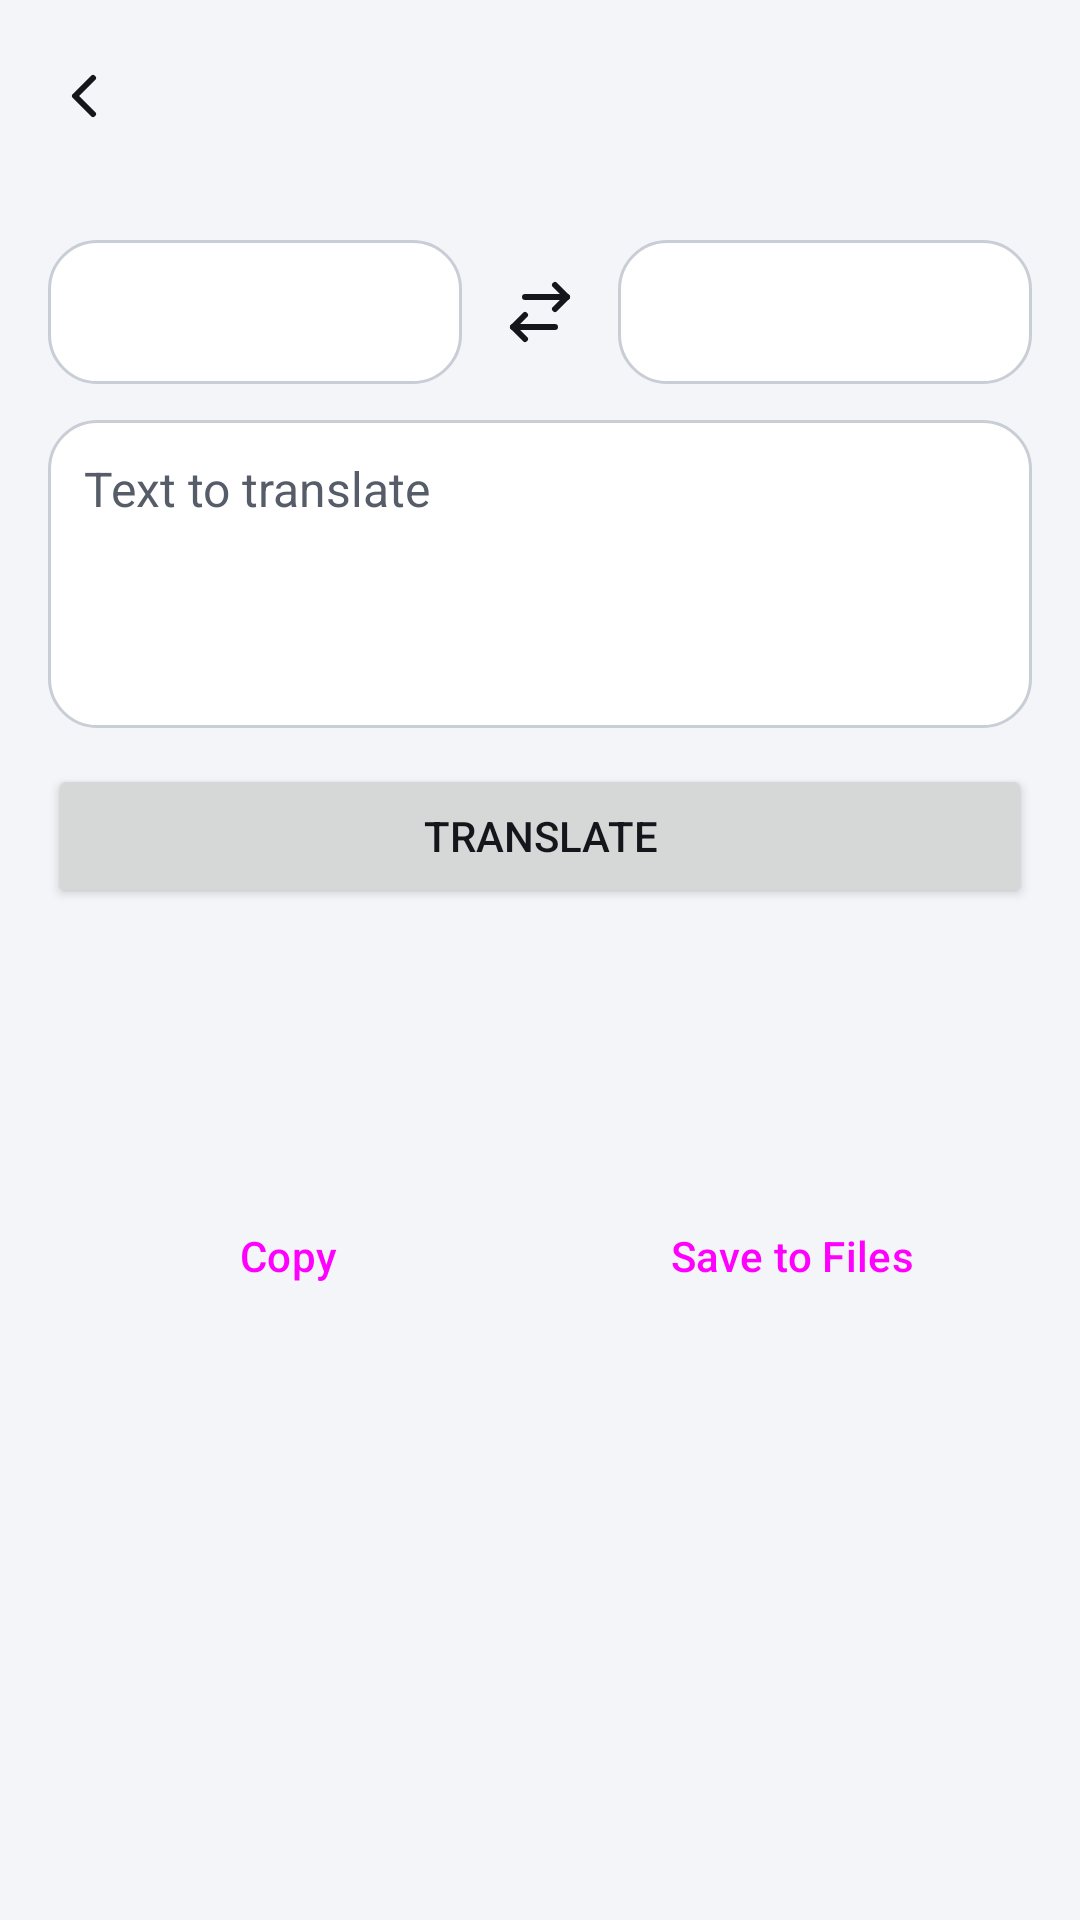

Where icons sit on this 1080 × 1920 app screen, as (x1, y1, x2, y2):
Swap languages: (510, 282, 570, 342)
